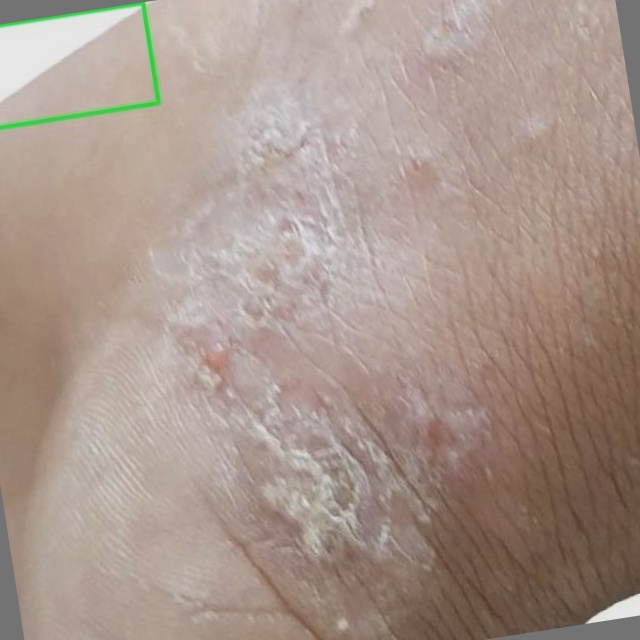Scabies: (0, 2, 158, 127)
